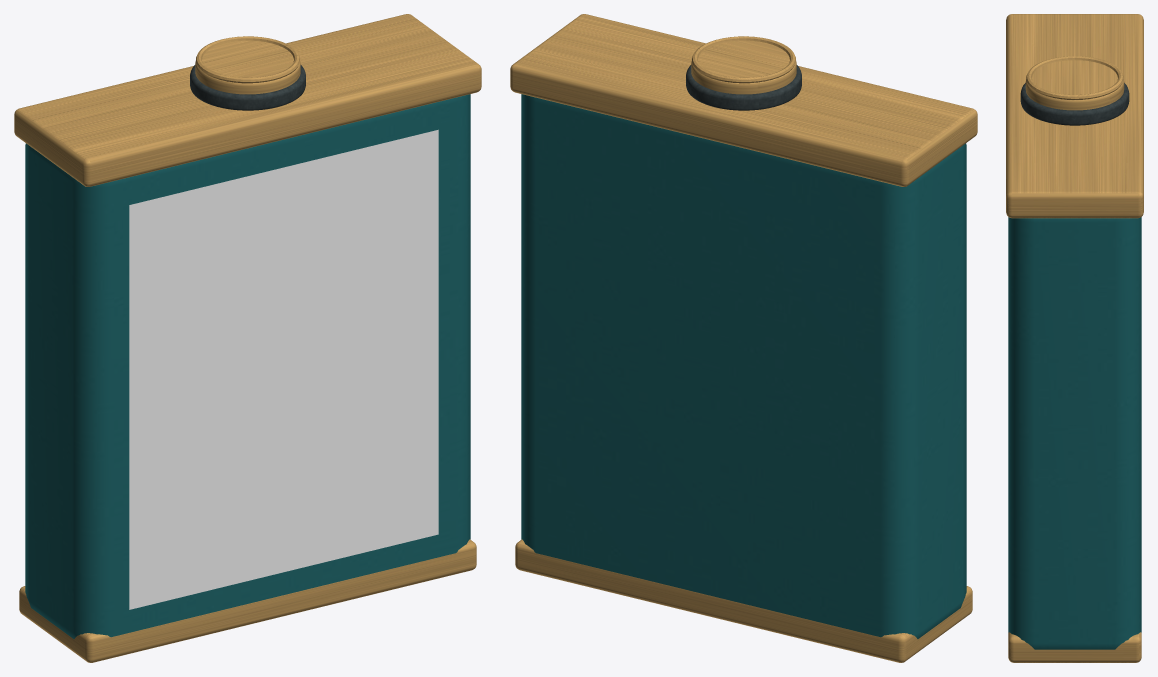
The model's file is preview.glb.
The picture shows the model from 3 angles, left to right: view 1: azimuth 30°, elevation 25°; view 2: azimuth 150°, elevation 25°; view 3: azimuth 270°, elevation 25°; orthographic projection. The views are drawn at different scales.
Visible parts, largest first — view 1: DropTin; view 2: DropTin; view 3: DropTin.
Boxes of the visible parts, x1,y1,x2,y2 form: DropTin: (14,14,481,662); DropTin: (510,14,977,662); DropTin: (1006,14,1143,662).
Size of the model in its own units: 0.103 by 0.1327 by 0.033.
4 materials, 3 textured.
